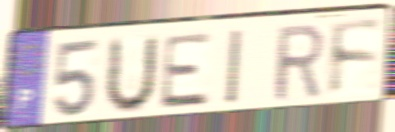5: (52, 37, 102, 120)
E: (157, 30, 215, 112)
F: (329, 17, 385, 101)
I: (224, 26, 245, 109)
R: (273, 21, 326, 105)
U: (101, 31, 161, 117)
